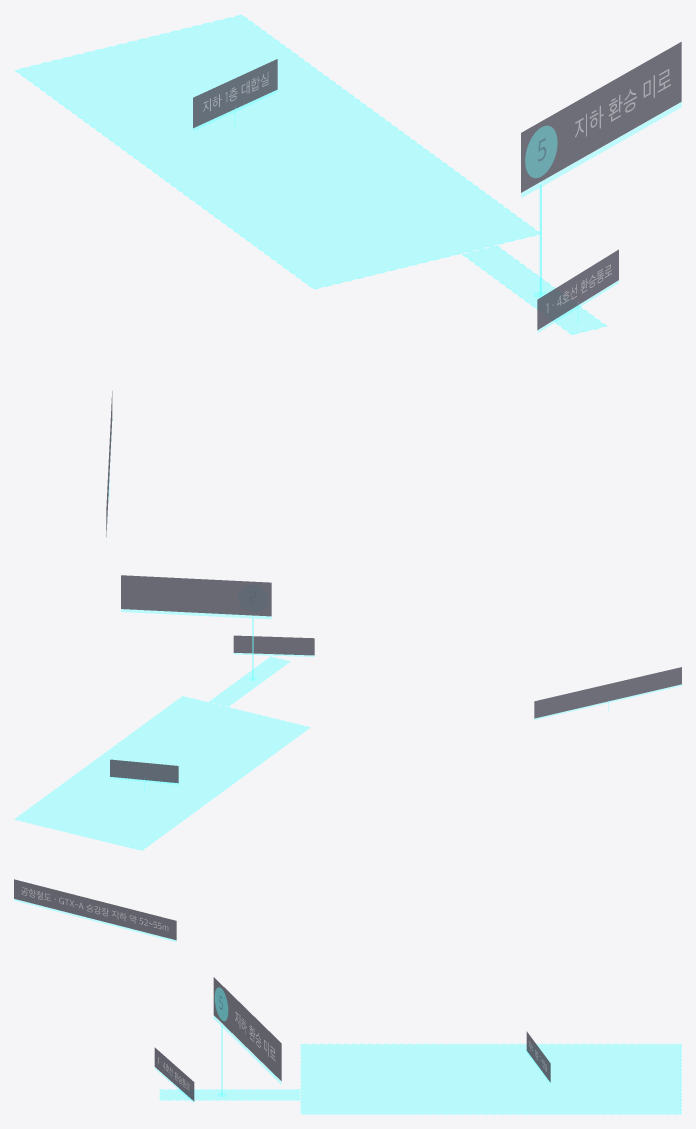
3 renders of one model, top to bottom at view 1: azimuth 30°, elevation 25°; view 2: azimuth 150°, elevation 25°; view 3: azimuth 270°, elevation 25°, orthographic. The views are drawn at different scales.
Visible parts, largest first — view 1: P5_Hatch_B1, P5_Plate, P5_Hatch_TR, PS_5_9_Plate, PS_5_10_Plate, P5_NumDisc, P5_Outline_B1, P5_Accent; view 2: P5_Hatch_B1, P5_Plate, PS_5_99_Plate, PS_5_10_Plate, PS_5_9_Plate, P5_Hatch_TR, P5_Accent; view 3: P5_Hatch_B1, PS_5_99_Plate, P5_Plate, P5_Hatch_TR, PS_5_10_Plate, PS_5_9_Plate, P5_Outline_B1.
Boxes of the visible parts, x1=… form: P5_Hatch_B1: x1=16, y1=15, x2=539, y2=288; P5_Plate: x1=521, y1=42, x2=681, y2=192; P5_Hatch_TR: x1=463, y1=246, x2=605, y2=333; PS_5_9_Plate: x1=193, y1=59, x2=277, y2=128; PS_5_10_Plate: x1=537, y1=249, x2=618, y2=329; P5_NumDisc: x1=525, y1=126, x2=557, y2=177; P5_Outline_B1: x1=14, y1=15, x2=539, y2=289; P5_Accent: x1=521, y1=102, x2=681, y2=197; P5_Hatch_B1: x1=15, y1=696, x2=309, y2=850; P5_Plate: x1=121, y1=575, x2=271, y2=616; PS_5_99_Plate: x1=534, y1=667, x2=681, y2=718; PS_5_10_Plate: x1=233, y1=635, x2=314, y2=655; PS_5_9_Plate: x1=110, y1=759, x2=178, y2=783; P5_Hatch_TR: x1=210, y1=657, x2=288, y2=706; P5_Accent: x1=121, y1=609, x2=271, y2=618; P5_Hatch_B1: x1=301, y1=1044, x2=681, y2=1114; PS_5_99_Plate: x1=14, y1=879, x2=176, y2=940; P5_Plate: x1=213, y1=977, x2=281, y2=1080; P5_Hatch_TR: x1=160, y1=1089, x2=299, y2=1100; PS_5_10_Plate: x1=154, y1=1047, x2=194, y2=1101; PS_5_9_Plate: x1=526, y1=1031, x2=550, y2=1082; P5_Outline_B1: x1=300, y1=1044, x2=681, y2=1114.
Bounding box in the file's own units: 364 × 77.3 × 422.
